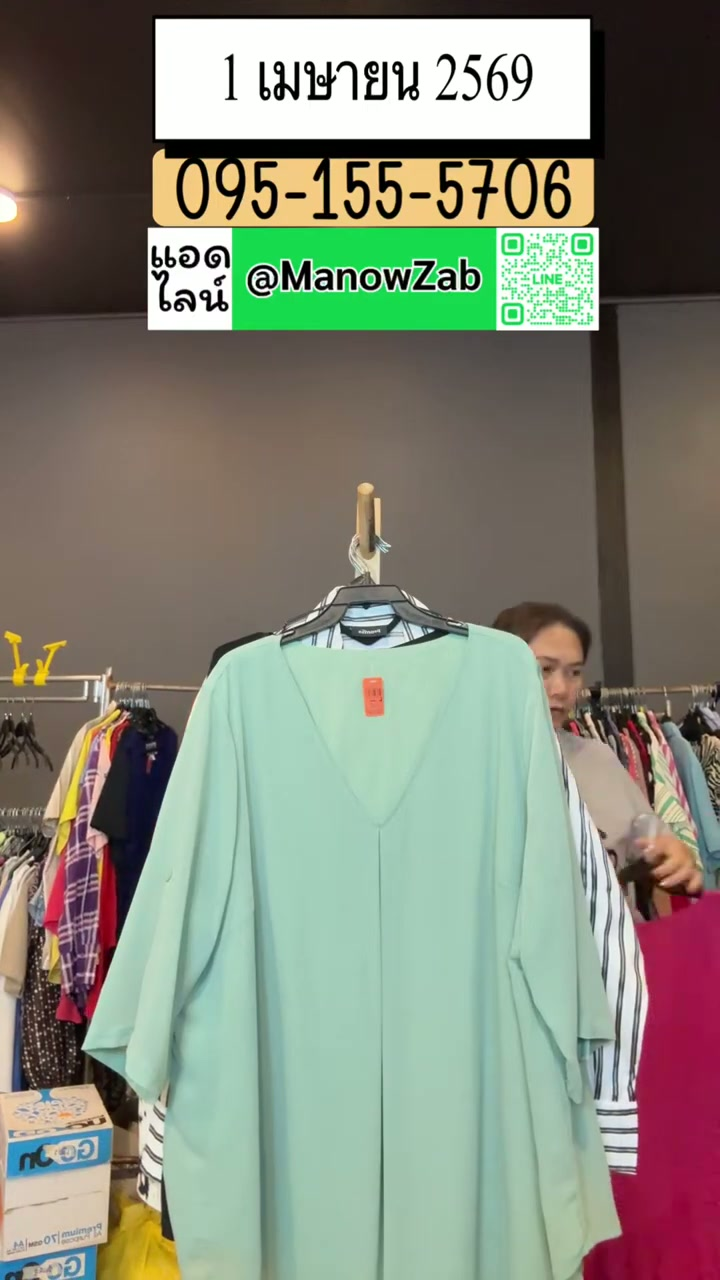display_shirt: (88, 611, 619, 1279)
